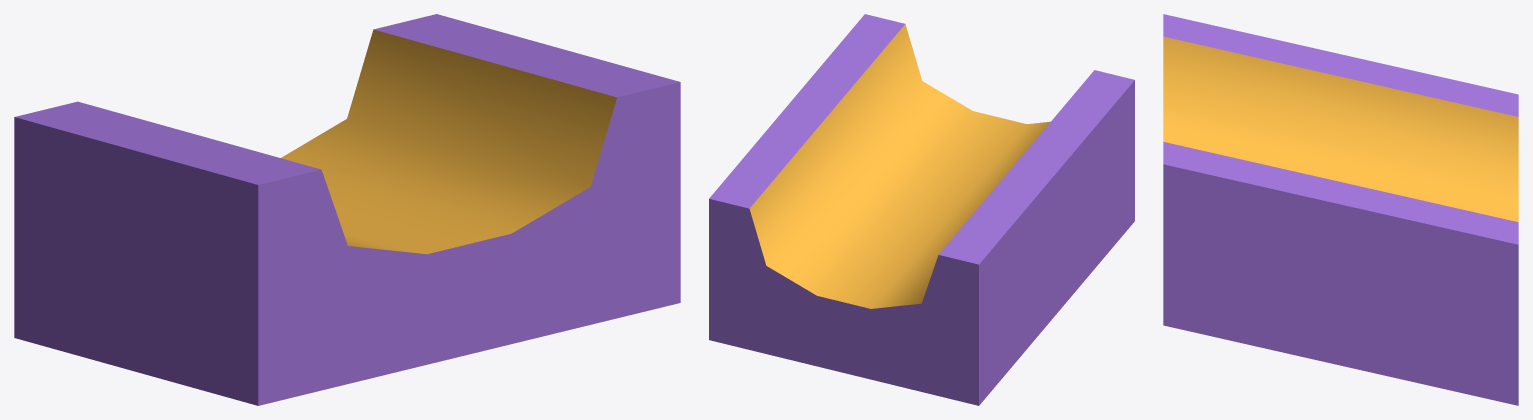
The model's file is slant-a.glb.
The picture shows the model from 3 angles, left to right: view 1: azimuth 30°, elevation 25°; view 2: azimuth 150°, elevation 25°; view 3: azimuth 270°, elevation 25°; orthographic projection. The views are drawn at different scales.
Visible parts, largest first — view 1: slant-a; view 2: slant-a; view 3: slant-a.
Part boxes in pixels (bbox=[...]): slant-a: bbox=[14, 14, 680, 405]; slant-a: bbox=[709, 14, 1134, 405]; slant-a: bbox=[1163, 14, 1518, 405].
Bounding box in the file's own units: 1 × 0.75 × 1.
1 material, 1 textured.
